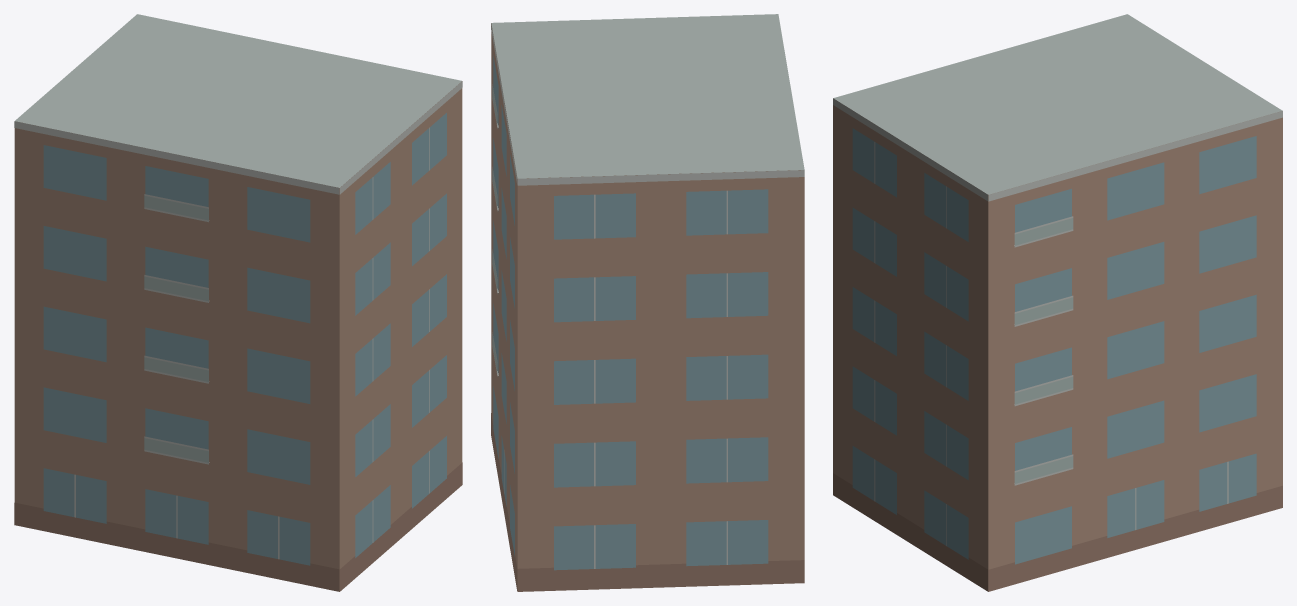
Rendered from survey-upis-32886604.glb.
The picture shows the model from 3 angles, left to right: view 1: azimuth 30°, elevation 25°; view 2: azimuth 150°, elevation 25°; view 3: azimuth 270°, elevation 25°; orthographic projection. The views are drawn at different scales.
Parts seen in each view (by area): view 1: survey-upis-32886604.tmp; view 2: survey-upis-32886604.tmp; view 3: survey-upis-32886604.tmp.
Boxes of the visible parts, box(x1,y1,x2,y2) form: survey-upis-32886604.tmp: box(14, 14, 462, 591); survey-upis-32886604.tmp: box(491, 14, 804, 591); survey-upis-32886604.tmp: box(833, 14, 1282, 591).
Size of the model in its own units: 13.98 by 14.3 by 14.69.
